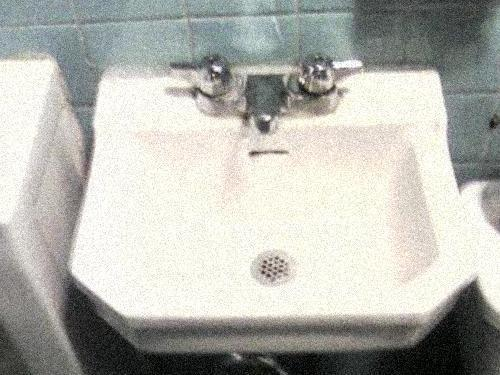Lavamanos: (88, 48, 476, 355)
